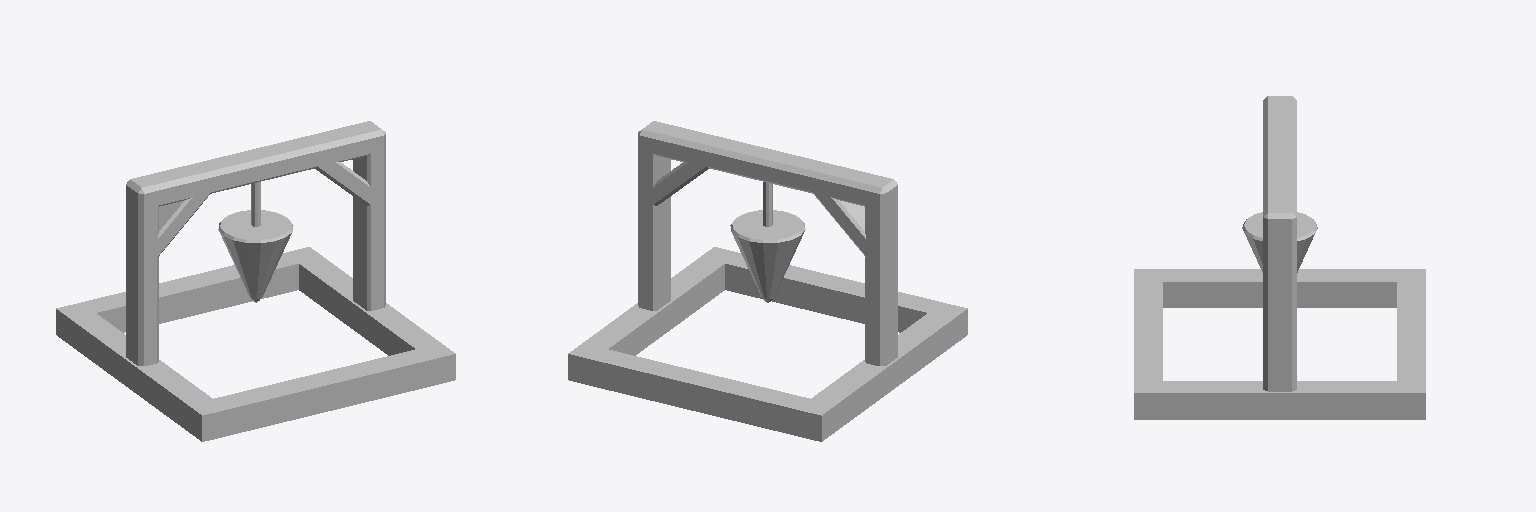
The model's file is coal_excavator.obj.
3 renders of one model, left to right at view 1: azimuth 30°, elevation 25°; view 2: azimuth 150°, elevation 25°; view 3: azimuth 270°, elevation 25°, orthographic.
Visible parts, largest first — view 1: Cube; view 2: Cube; view 3: Cube.
Boxes of the visible parts, x1,y1,x2,y2 form: Cube: [56, 121, 455, 441]; Cube: [568, 121, 967, 441]; Cube: [1134, 96, 1425, 419].
Size of the model in its own units: 1.5 by 1.15 by 1.5.